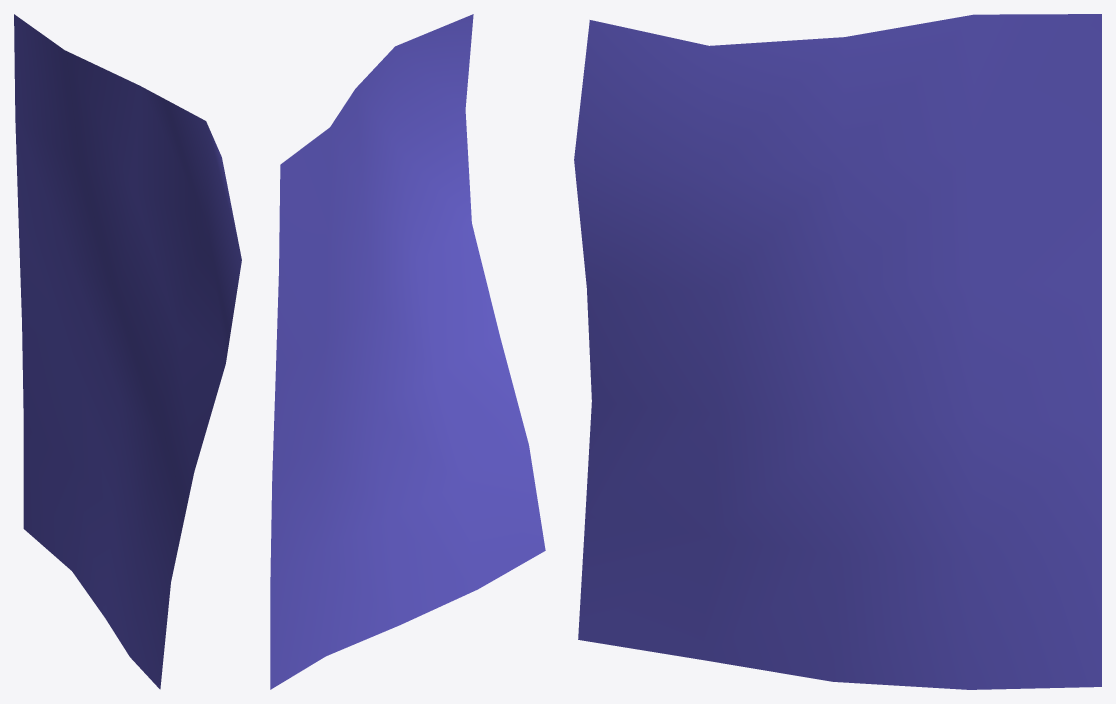
File: zettel_002.fbx
3 views of the same model, side by side, from view 1: azimuth 30°, elevation 25°; view 2: azimuth 150°, elevation 25°; view 3: azimuth 270°, elevation 25° (orthographic). The views are drawn at different scales.
Visible parts, largest first — view 1: zettel_002; view 2: zettel_002; view 3: zettel_002.
Boxes of the visible parts, box(x1,y1,x2,y2) form: zettel_002: box(14, 14, 241, 689); zettel_002: box(270, 14, 545, 689); zettel_002: box(574, 14, 1101, 689).
Size of the model in its own units: 3.86 by 20.01 by 14.16.
